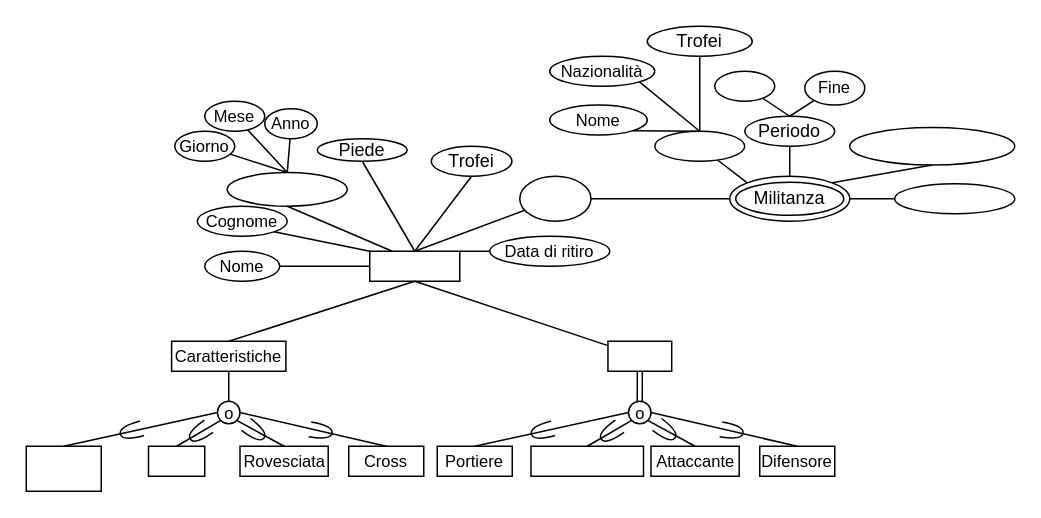
Image size: 1041x518. Some labels were removed from this diagram. The shapes that lost their labels are listed below. From the top down, each one's centre as x and y in pixels, then its label:
At pixel 744 85: "Inizio".
At pixel 699 145: "Squadra".
At pixel 931 145: "Partite giocate".
At pixel 286 188: "Data di nascita".
At pixel 554 198: "Carriera".
At pixel 954 198: "Goal segnati".
At pixel 414 265: "Giocatore".
At pixel 639 355: "Ruolo".
At pixel 63 468: "Colpo di testa".
At pixel 176 460: "Tackle".
At pixel 587 460: "Centrocampista".
